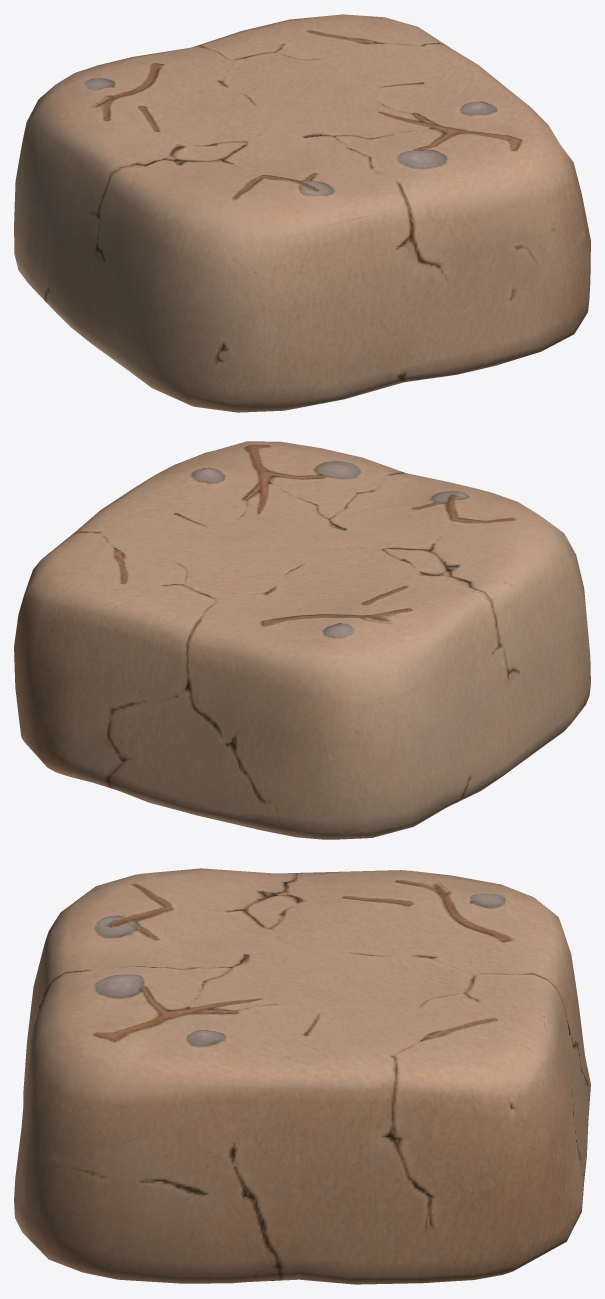
The model's file is Ground_Dry_001.fbx.
3 renders of one model, top to bottom at view 1: azimuth 30°, elevation 25°; view 2: azimuth 150°, elevation 25°; view 3: azimuth 270°, elevation 25°, orthographic. The views are drawn at different scales.
Parts seen in each view (by area): view 1: Ground_Dry_001; view 2: Ground_Dry_001; view 3: Ground_Dry_001.
Boxes of the visible parts, box(x1,y1,x2,y2) form: Ground_Dry_001: box(14, 14, 590, 412); Ground_Dry_001: box(14, 441, 590, 839); Ground_Dry_001: box(14, 868, 590, 1284).
Bounding box in the file's own units: 95.32 × 41.81 × 98.53.
